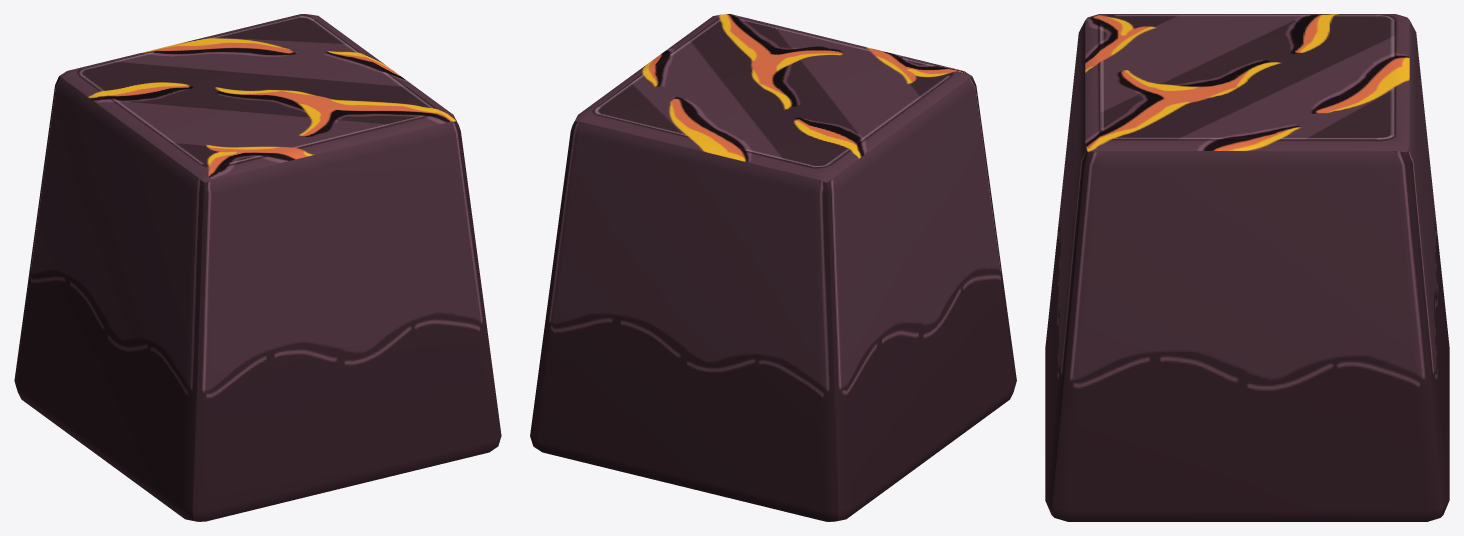
File: S5_InF_Block_001.fbx
3 renders of one model, left to right at view 1: azimuth 30°, elevation 25°; view 2: azimuth 150°, elevation 25°; view 3: azimuth 270°, elevation 25°, orthographic. The views are drawn at different scales.
Visible parts, largest first — view 1: pCube360; view 2: pCube360; view 3: pCube360.
Part boxes in pixels (x1,y1,x2,y2): pCube360: [14, 14, 501, 521]; pCube360: [530, 14, 1016, 521]; pCube360: [1045, 14, 1449, 521].
Size of the model in its own units: 0.9963 by 1 by 0.9964.
